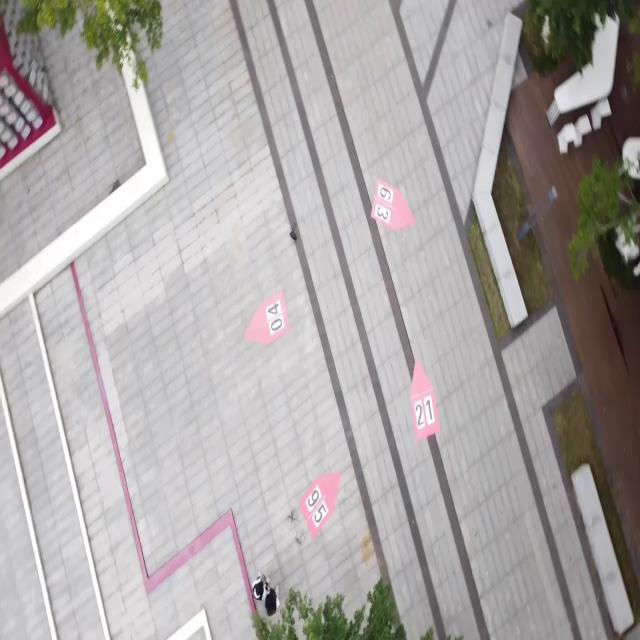-sign-: (0, 8, 60, 183), (300, 472, 343, 542), (409, 359, 440, 443), (245, 290, 290, 347), (371, 179, 416, 232)
